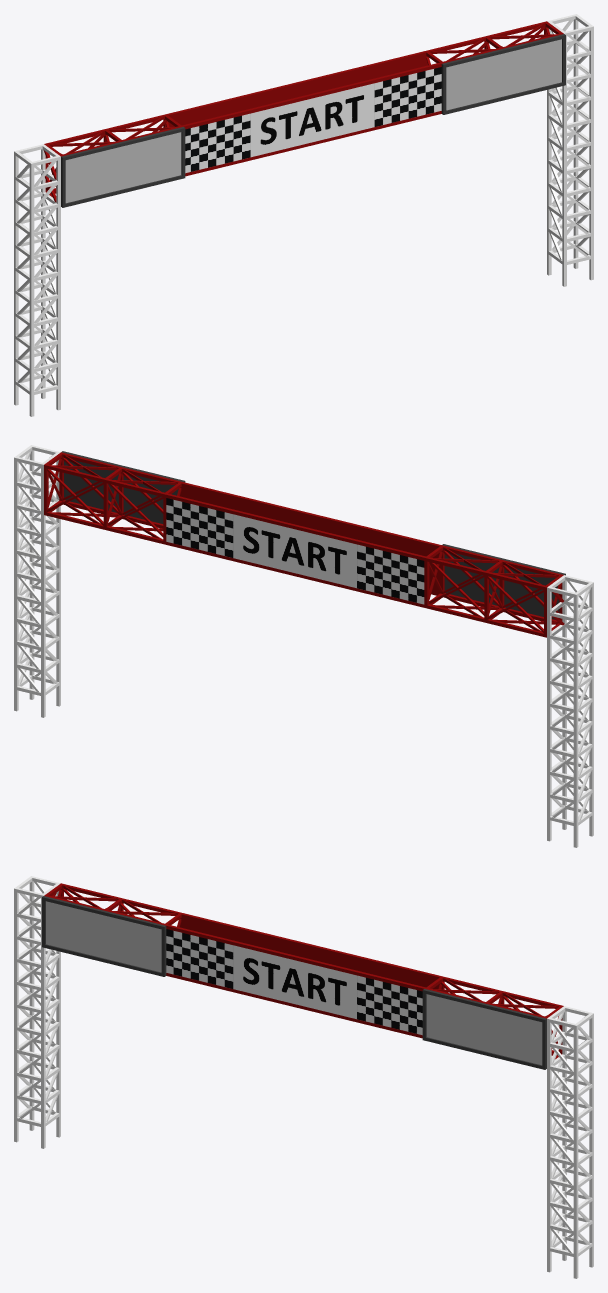
The model's file is Starting_1.fbx.
3 views of the same model, one above another, from view 1: azimuth 30°, elevation 25°; view 2: azimuth 150°, elevation 25°; view 3: azimuth 330°, elevation 25° (orthographic).
Parts seen in each view (by area): view 1: Starting Line; view 2: Starting Line; view 3: Starting Line.
Part boxes in pixels (box(x1,y1,x2,y2)): Starting Line: box(14, 14, 593, 416); Starting Line: box(14, 445, 593, 847); Starting Line: box(14, 876, 593, 1278).
Bounding box in the file's own units: 943 × 405 × 55.1.
